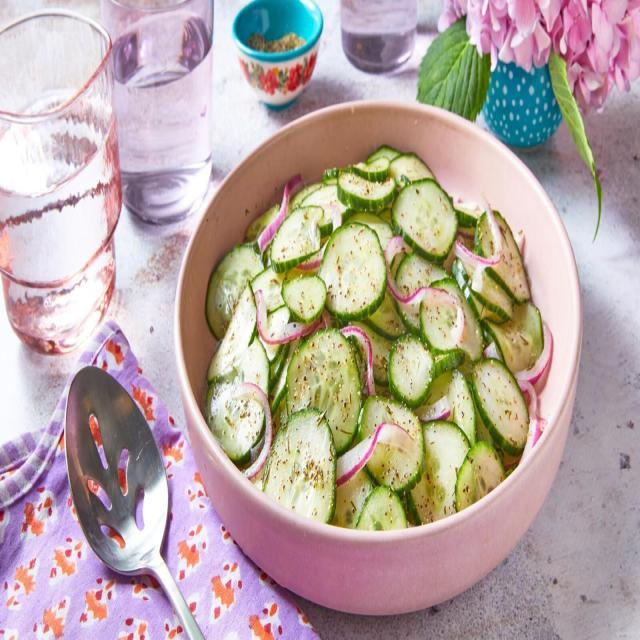Pickle: (286, 328, 361, 455), (262, 408, 336, 522), (319, 222, 388, 321), (359, 395, 425, 495), (409, 420, 470, 524), (471, 358, 529, 456), (391, 178, 458, 262), (205, 245, 264, 340), (420, 278, 484, 362), (206, 375, 265, 465), (208, 282, 256, 384), (488, 210, 530, 304), (270, 205, 324, 272), (455, 440, 505, 512), (389, 332, 435, 408), (420, 288, 465, 352), (301, 185, 351, 238), (469, 265, 512, 322), (338, 170, 396, 211), (356, 485, 408, 530), (281, 275, 326, 324), (395, 252, 446, 295), (448, 370, 476, 446), (366, 290, 406, 340), (390, 152, 435, 182)
